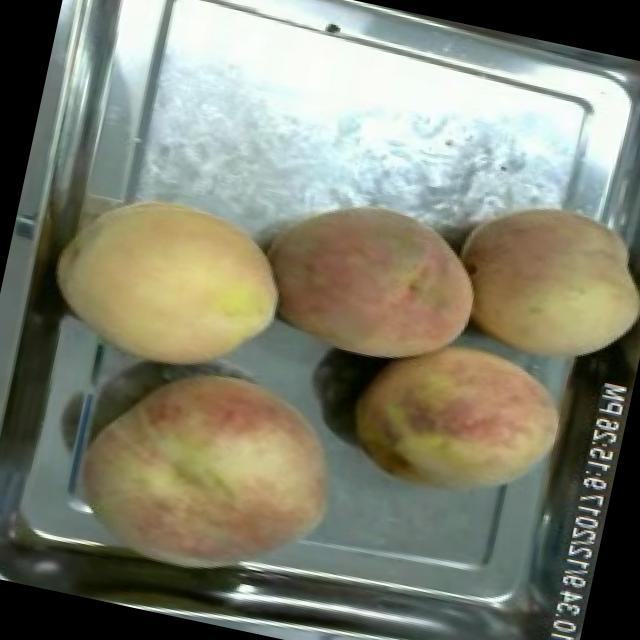Fruit: (51, 330, 367, 616), (23, 168, 306, 406), (332, 302, 580, 525), (244, 176, 498, 388), (432, 177, 640, 382)
